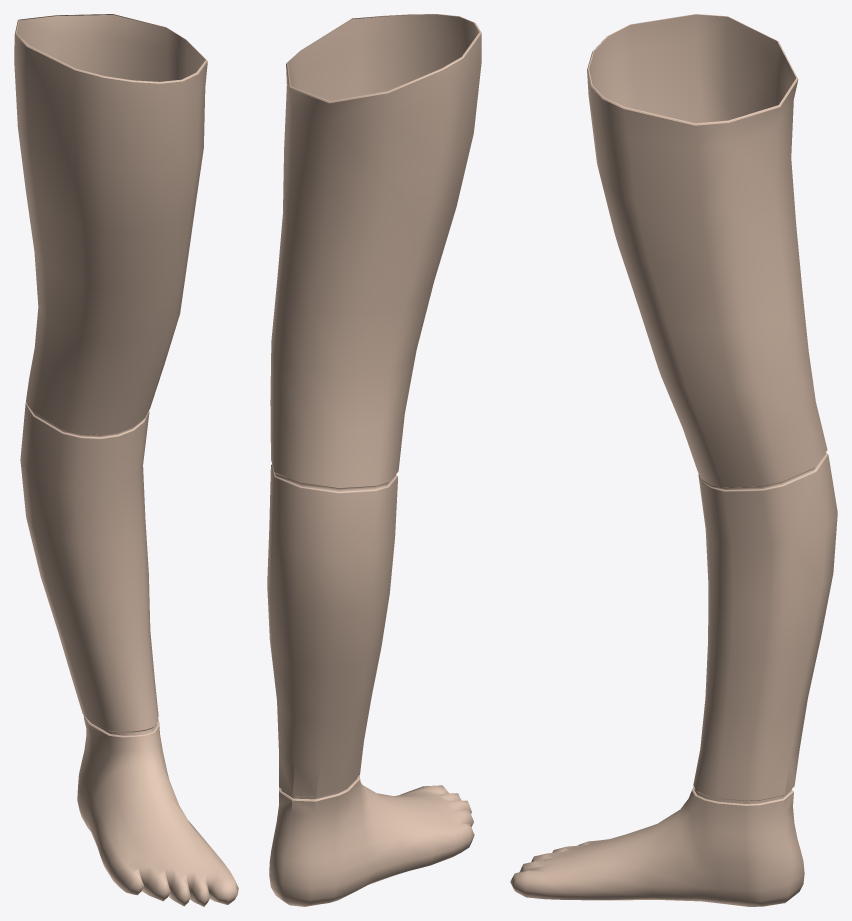
File: MannequinFemaleLegRight.fbx
3 renders of one model, left to right at view 1: azimuth 30°, elevation 25°; view 2: azimuth 150°, elevation 25°; view 3: azimuth 270°, elevation 25°, orthographic. The views are drawn at different scales.
Parts seen in each view (by area): view 1: ManequinLegRightFemale1; view 2: ManequinLegRightFemale1; view 3: ManequinLegRightFemale1.
Boxes of the visible parts, x1,y1,x2,y2 form: ManequinLegRightFemale1: [14, 14, 238, 906]; ManequinLegRightFemale1: [267, 14, 481, 906]; ManequinLegRightFemale1: [510, 14, 837, 906].
Size of the model in its own units: 0.1649 by 0.8032 by 0.287.
